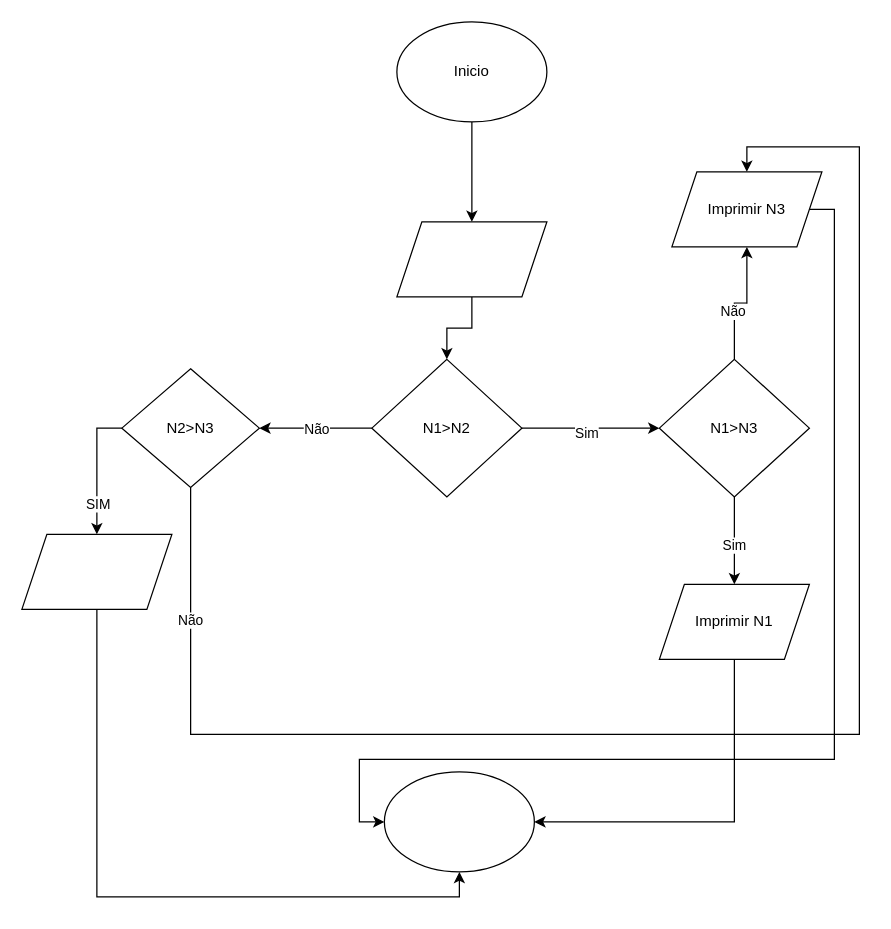
The diagram is 891 pixels wide and 929 high, and some of its shapes have lost their labels. The shapes that lost their labels are listed below. From the top down, each one's box as (x1, y1, x2, y2) in pixels, then its label:
(396, 221, 547, 297): Ler N1, N2, N3
(21, 533, 172, 609): Imprimir N2
(383, 771, 534, 872): Fim
